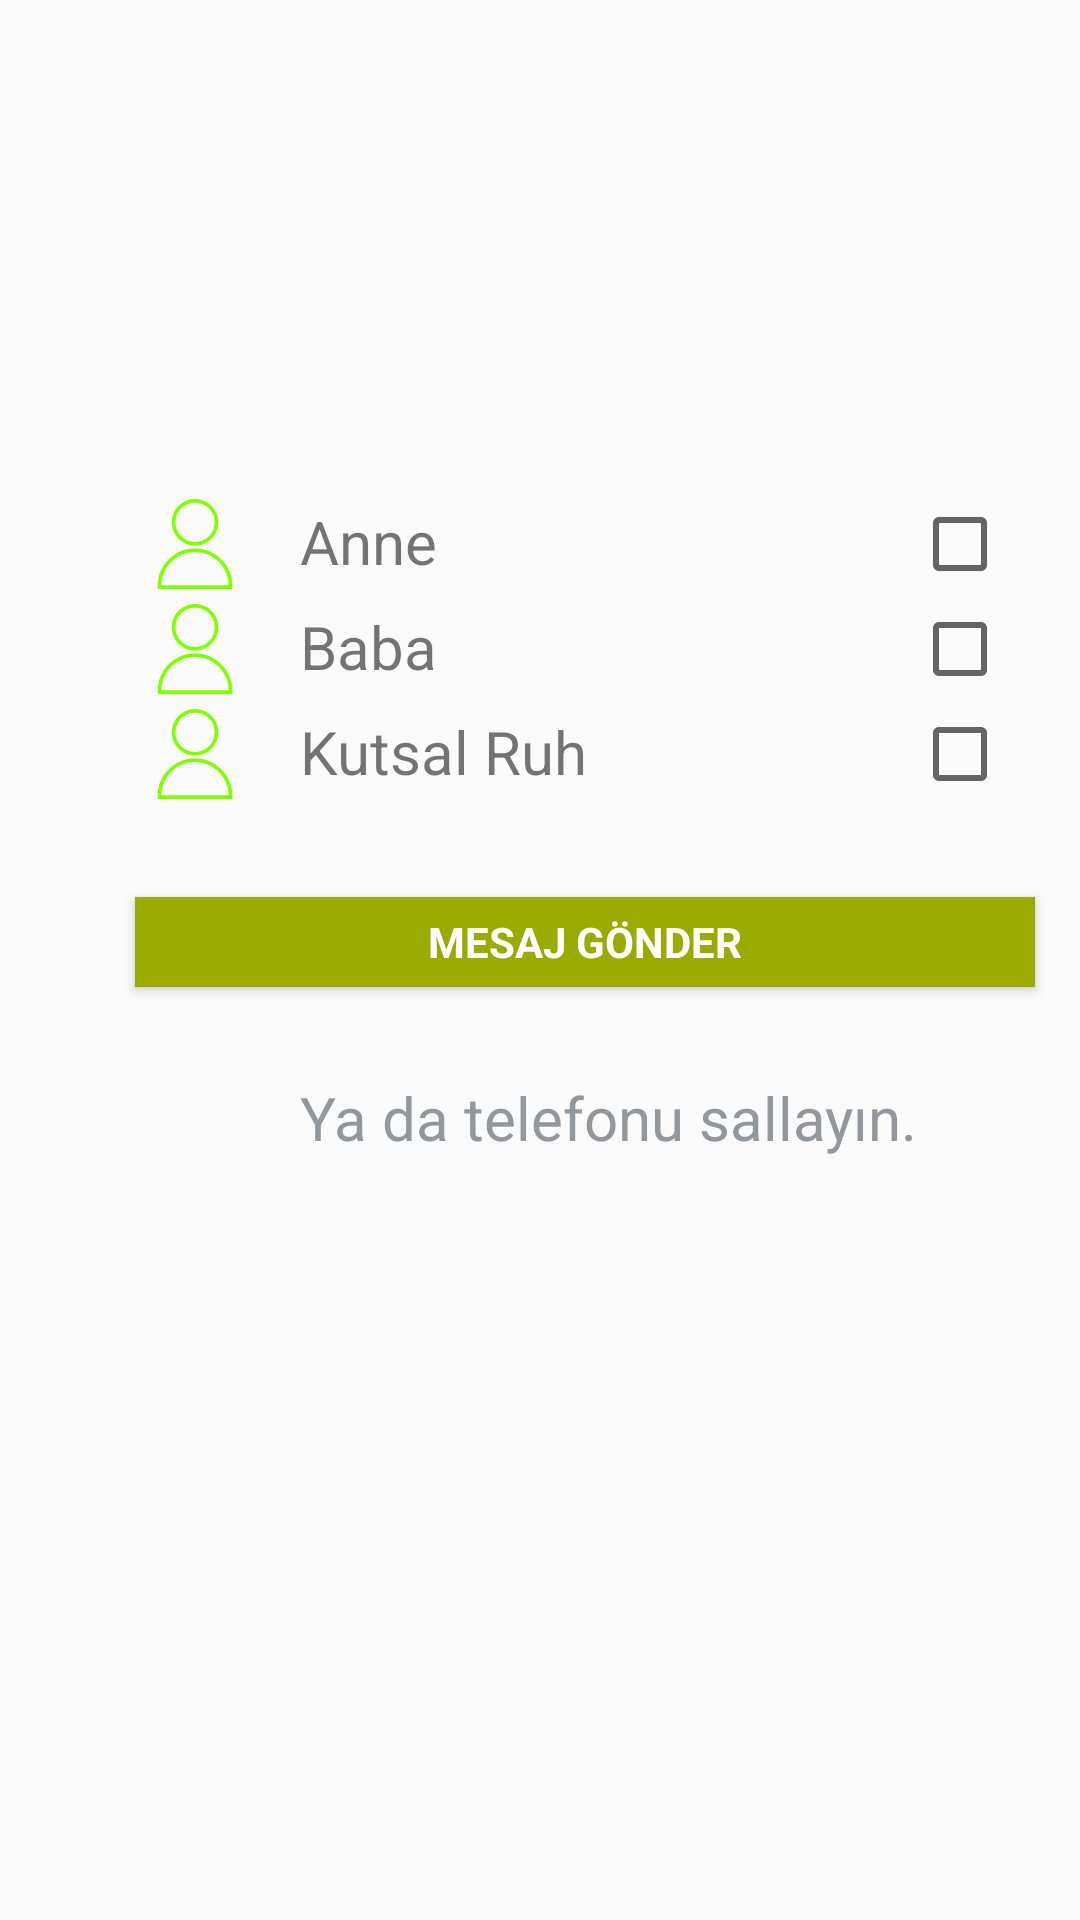

Icons on this 1080 x 1920 Android screen, each with the point to tap as point (x, y):
user yeni: point (195, 544), point (195, 649), point (195, 754)
